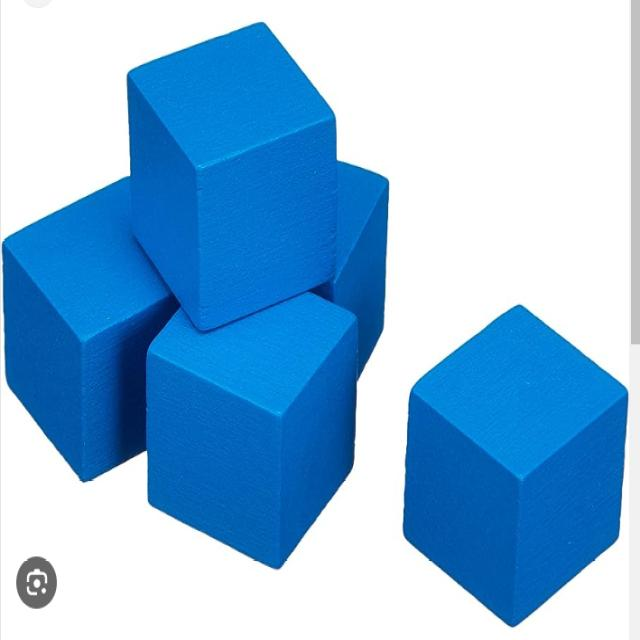bluecube: (402, 304, 630, 629), (126, 21, 336, 334), (147, 292, 360, 571), (1, 175, 180, 484), (311, 160, 387, 381)
